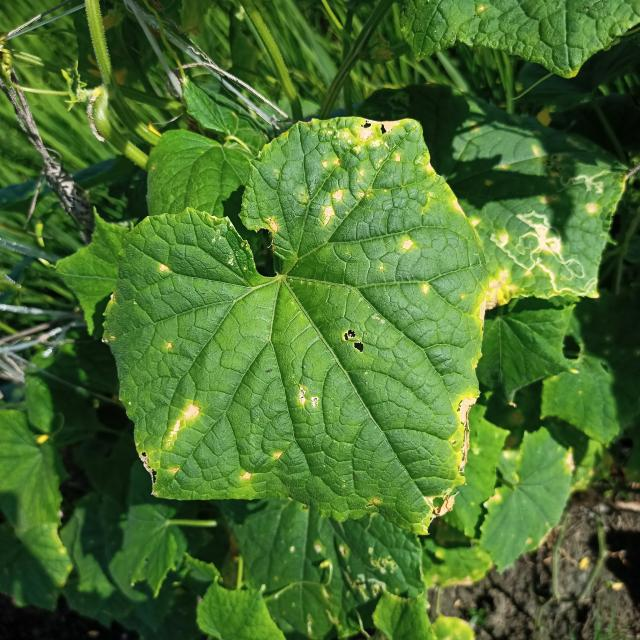disease_cucumber: (316, 114, 404, 230), (143, 403, 207, 479), (449, 393, 487, 473), (472, 270, 517, 328), (292, 385, 324, 415), (264, 215, 280, 234), (419, 282, 434, 297), (399, 240, 413, 253), (164, 338, 175, 354), (158, 263, 170, 275), (236, 470, 250, 480)
